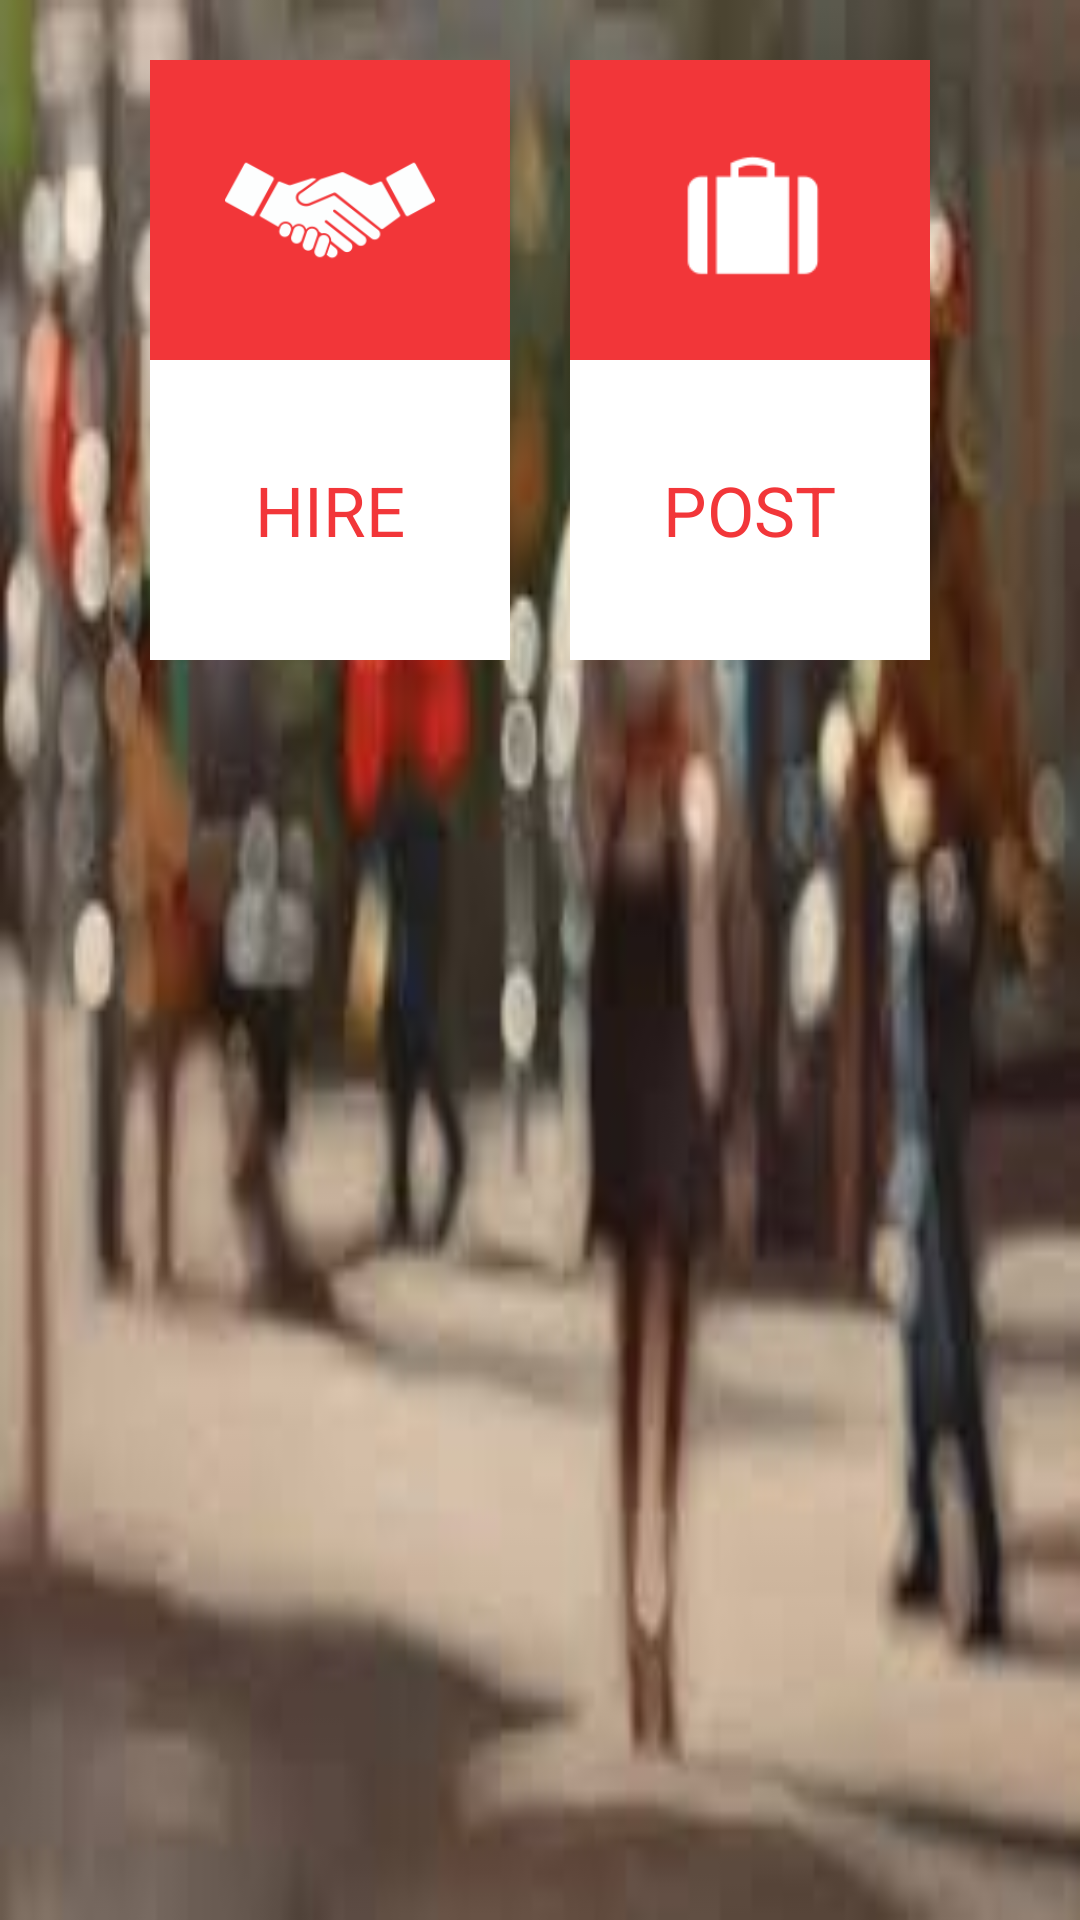

Icons on this 1080×1920 Android screen, each with its box as (x1, y1, x2, y2):
briefcase: (687, 156, 819, 275)
handshake: (225, 162, 435, 258)
